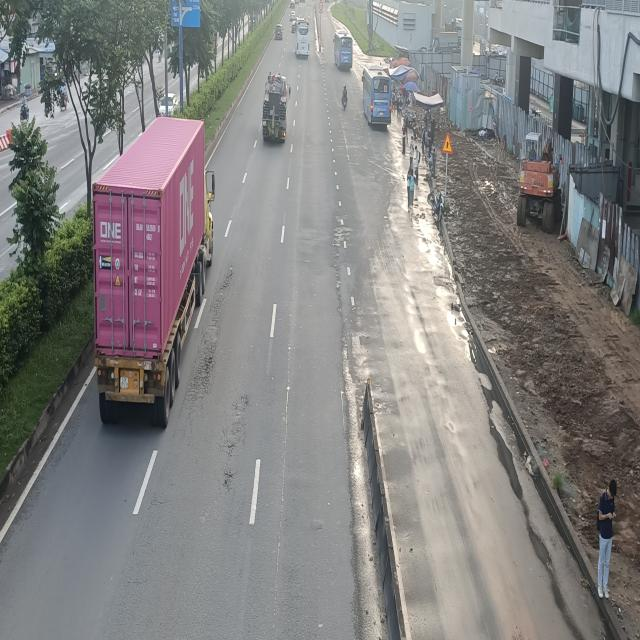coach: (360, 65, 391, 127), (334, 23, 355, 70), (295, 18, 310, 58)
container: (90, 122, 216, 430)
truck: (262, 74, 291, 139)
